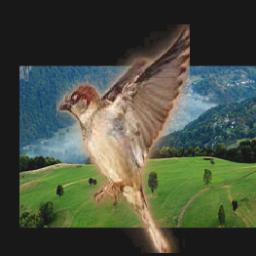Sparrow: (57, 24, 191, 253)
